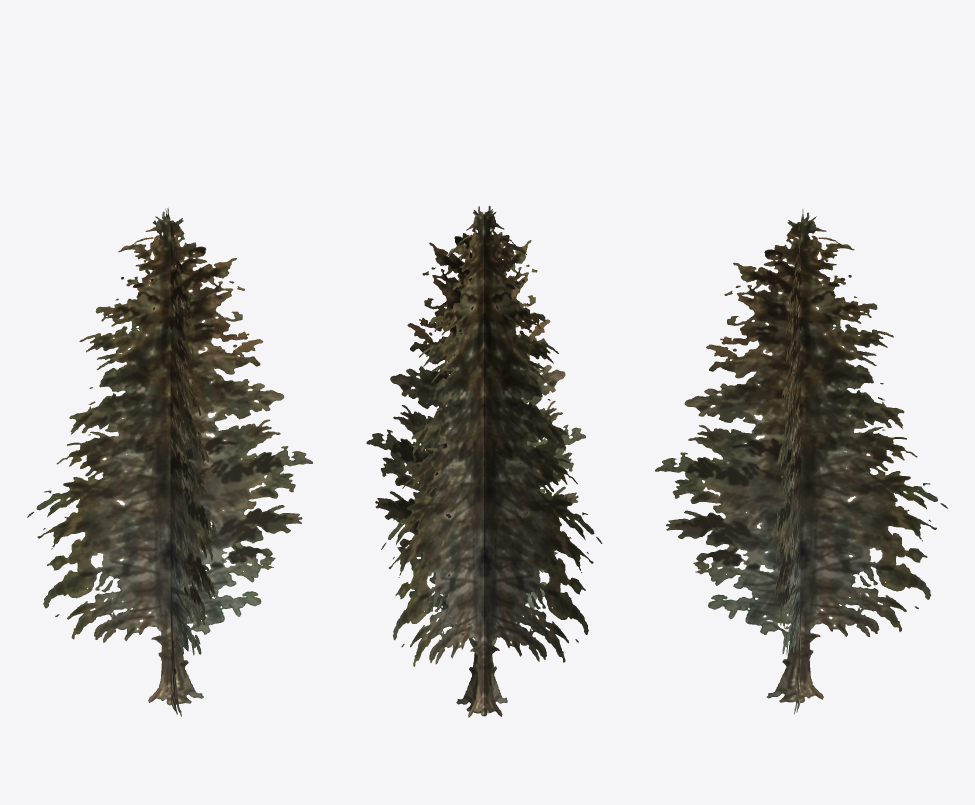
The model's file is FOL_TreePineA_BillBoard.FBX.
3 views of the same model, side by side, from view 1: azimuth 30°, elevation 25°; view 2: azimuth 150°, elevation 25°; view 3: azimuth 270°, elevation 25° (orthographic). The views are drawn at different scales.
Visible parts, largest first — view 1: Object001; view 2: Object001; view 3: Object001.
Boxes of the visible parts, left/top/right/bottom form: Object001: left=27, top=208, right=312, bottom=716; Object001: left=366, top=206, right=602, bottom=717; Object001: left=655, top=209, right=947, bottom=714.
Bounding box in the file's own units: 525 × 1155 × 522.
1 material, 1 textured.
